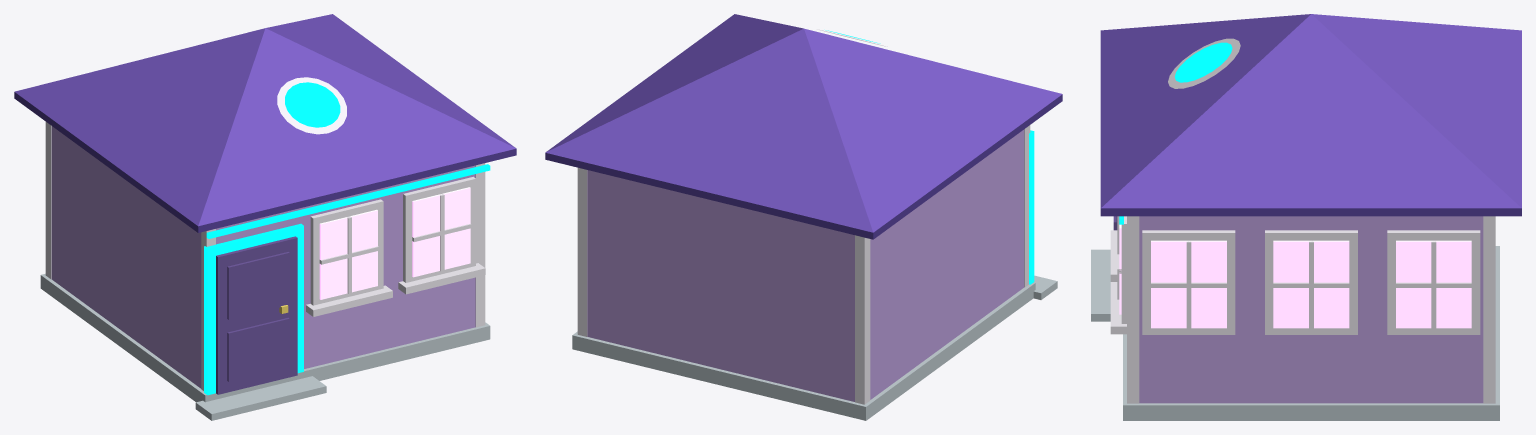
Rendered from arcade_hall.glb.
The picture shows the model from 3 angles, left to right: view 1: azimuth 30°, elevation 25°; view 2: azimuth 150°, elevation 25°; view 3: azimuth 270°, elevation 25°; orthographic projection. The views are drawn at different scales.
Visible parts, largest first — view 1: Arcade_Roof, Arcade_Walls, Arcade_Plinth, Arcade_Door, Arcade_WinF2_Glass, Arcade_WinF1_Glass, Arcade_DoorFrame, Arcade_DoorPanelB, Arcade_DoorPanelA, Arcade_Step, Arcade_RoofEdgeFront, Arcade_WinF1_Frame (+10 smaller); view 2: Arcade_Walls, Arcade_Roof, Arcade_Plinth, Arcade_Corner2, Arcade_RoofEdgeBack, Arcade_Corner3, Arcade_RoofEdgeLeft, Arcade_DoorFrame, Arcade_Corner0; view 3: Arcade_Roof, Arcade_Walls, Arcade_Plinth, Arcade_WinS1_Glass, Arcade_WinS2_Glass, Arcade_WinS0_Glass, Arcade_RoofEdgeRight, Arcade_WinS0_Frame, Arcade_WinS2_Frame, Arcade_WinS1_Frame, Arcade_Corner1, Arcade_Corner3 (+12 smaller).
Boxes of the visible parts, box(x1,y1,x2,y2) form: Arcade_Roof: box(14, 14, 516, 226); Arcade_Walls: box(51, 126, 475, 388); Arcade_Plinth: box(40, 273, 490, 402); Arcade_Door: box(216, 236, 297, 394); Arcade_WinF2_Glass: box(412, 187, 470, 277); Arcade_WinF1_Glass: box(319, 209, 377, 299); Arcade_DoorFrame: box(204, 223, 303, 395); Arcade_DoorPanelB: box(227, 252, 289, 319); Arcade_DoorPanelA: box(227, 317, 289, 381); Arcade_Step: box(195, 376, 326, 420); Arcade_RoofEdgeFront: box(195, 148, 516, 232); Arcade_WinF1_Frame: box(310, 199, 383, 305); Arcade_Walls: box(587, 129, 1024, 401); Arcade_Roof: box(545, 14, 1062, 232); Arcade_Plinth: box(572, 282, 1035, 420); Arcade_Corner2: box(855, 235, 870, 404); Arcade_RoofEdgeBack: box(545, 153, 876, 239); Arcade_Corner3: box(577, 167, 587, 336); Arcade_RoofEdgeLeft: box(867, 95, 1062, 239); Arcade_DoorFrame: box(1029, 130, 1034, 284); Arcade_Corner0: box(1024, 125, 1030, 287); Arcade_Roof: box(1100, 14, 1521, 208); Arcade_Walls: box(1139, 216, 1483, 403); Arcade_Plinth: box(1123, 246, 1499, 420); Arcade_WinS1_Glass: box(1273, 240, 1349, 328); Arcade_WinS2_Glass: box(1151, 240, 1226, 328); Arcade_WinS0_Glass: box(1396, 240, 1471, 328); Arcade_RoofEdgeRight: box(1100, 208, 1521, 216); Arcade_WinS0_Frame: box(1387, 230, 1480, 334); Arcade_WinS2_Frame: box(1142, 230, 1235, 334); Arcade_WinS1_Frame: box(1265, 230, 1357, 334); Arcade_Corner1: box(1127, 216, 1139, 403); Arcade_Corner3: box(1483, 216, 1495, 403).
Size of the model in its own units: 3.44 by 2.95 by 3.52.
